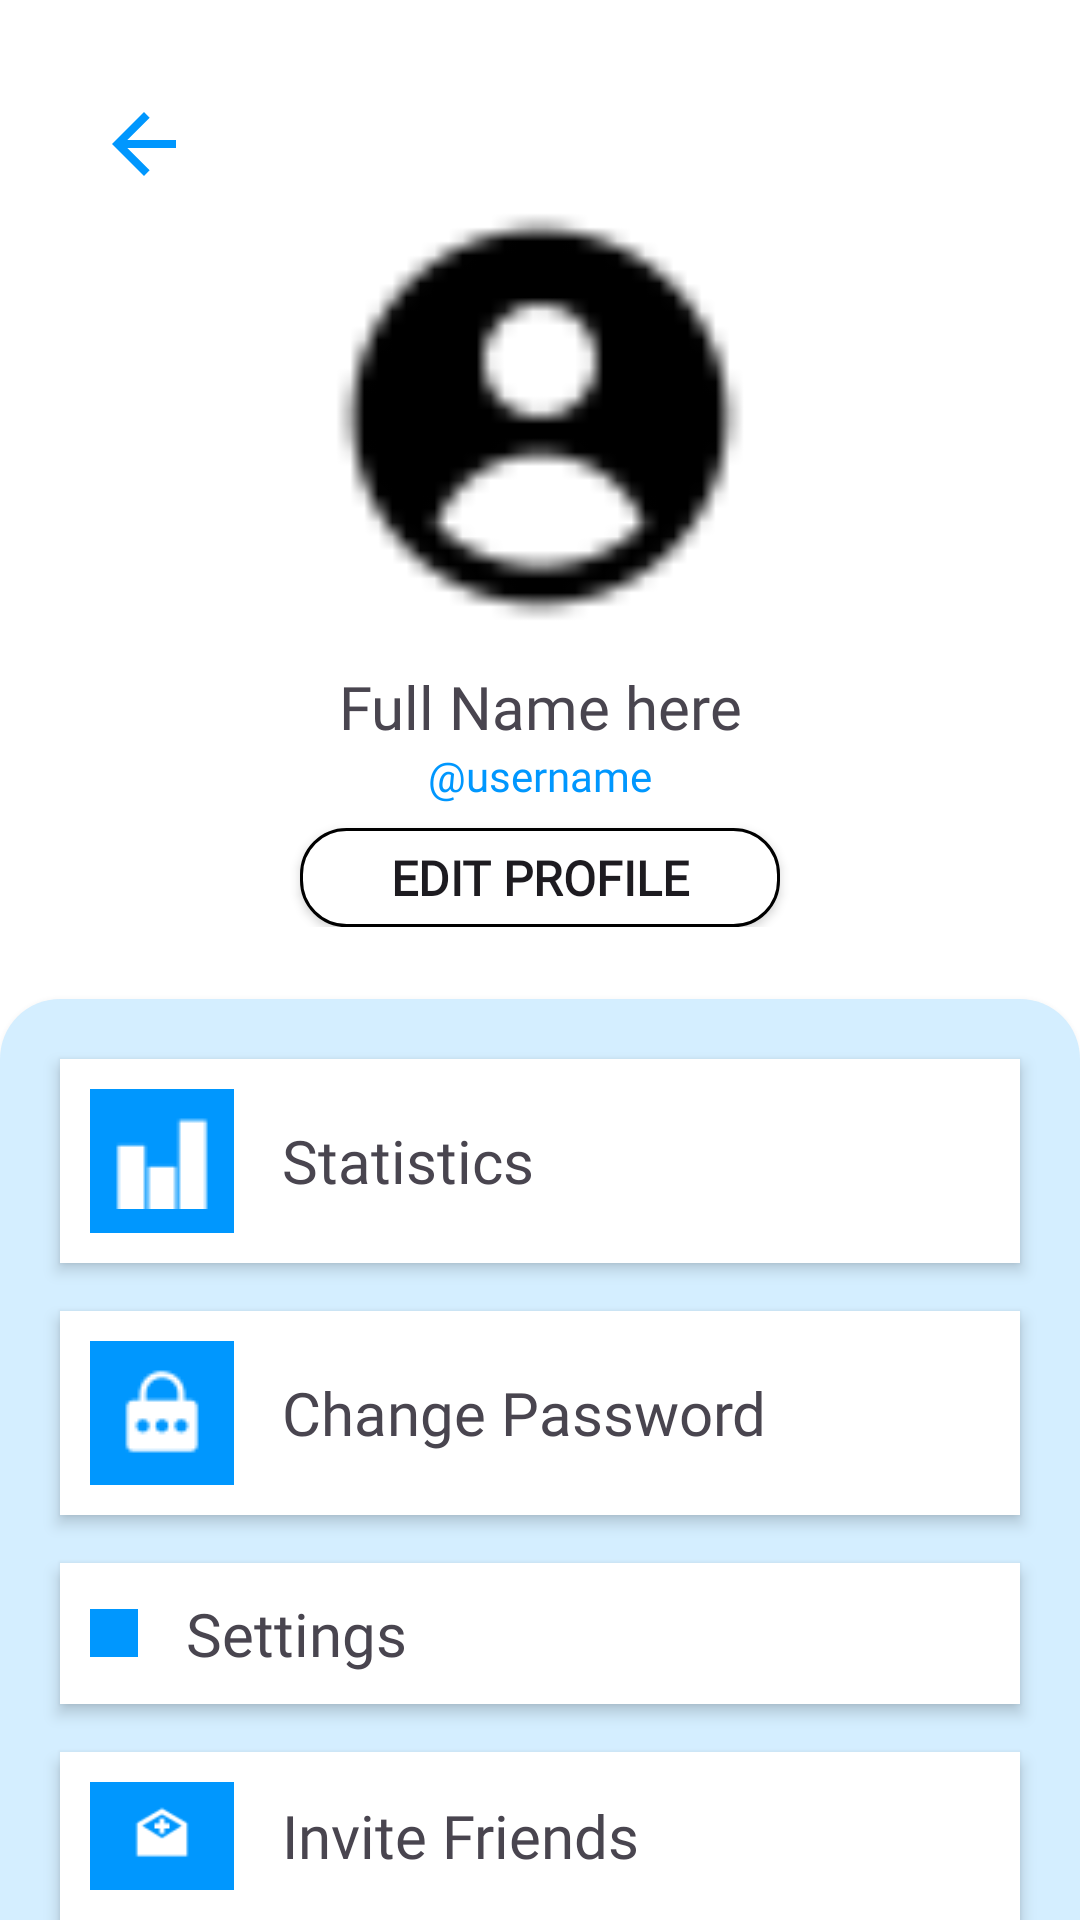

Where to tap for icons on this 1080x1920 app screen, as (x,y):
arrow back: (144,144)
change pw: (162,1413)
stats: (162,1161)
